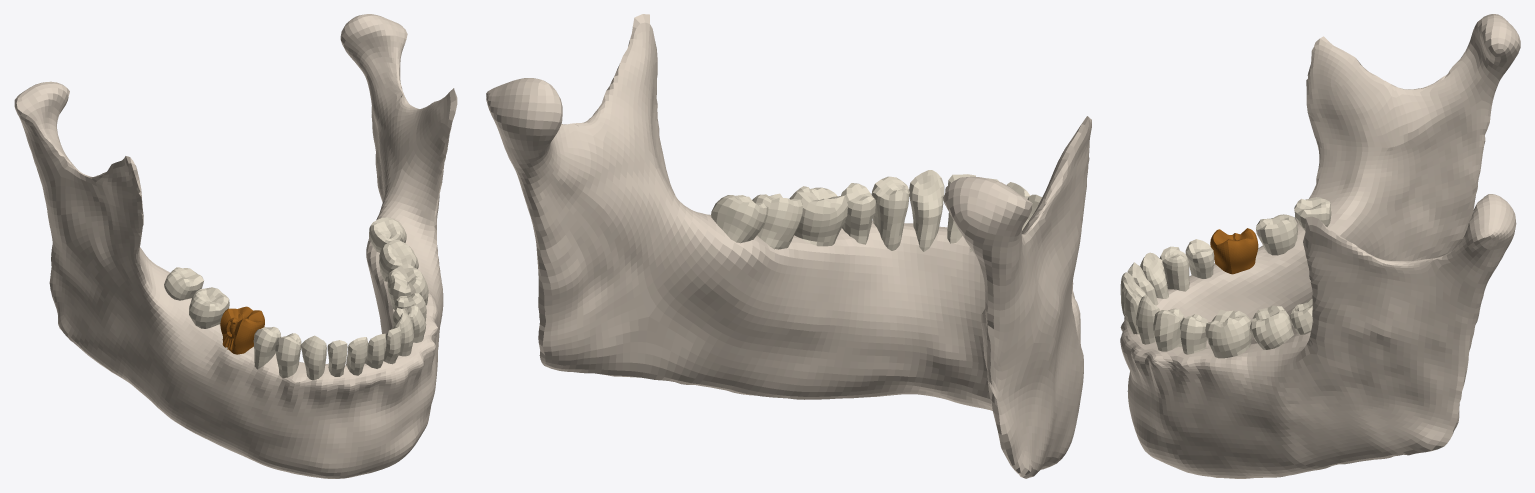
Rendered from manu.glb.
The picture shows the model from 3 angles, left to right: view 1: azimuth 30°, elevation 25°; view 2: azimuth 150°, elevation 25°; view 3: azimuth 270°, elevation 25°; orthographic projection. The views are drawn at different scales.
Parts seen in each view (by area): view 1: Mandibula Completa, Dientes, Diente con cariez; view 2: Mandibula Completa, Dientes; view 3: Mandibula Completa, Dientes, Diente con cariez.
Boxes of the visible parts, x1=… form: Mandibula Completa: x1=14, y1=14, x2=457, y2=478; Dientes: x1=164, y1=217, x2=428, y2=380; Diente con cariez: x1=220, y1=306, x2=264, y2=354; Mandibula Completa: x1=486, y1=14, x2=1091, y2=478; Dientes: x1=711, y1=170, x2=1041, y2=252; Mandibula Completa: x1=1120, y1=14, x2=1520, y2=478; Dientes: x1=1120, y1=197, x2=1331, y2=358; Diente con cariez: x1=1210, y1=228, x2=1258, y2=274.
Bounding box in the file's own units: 10.72 × 8.29 × 8.86.
